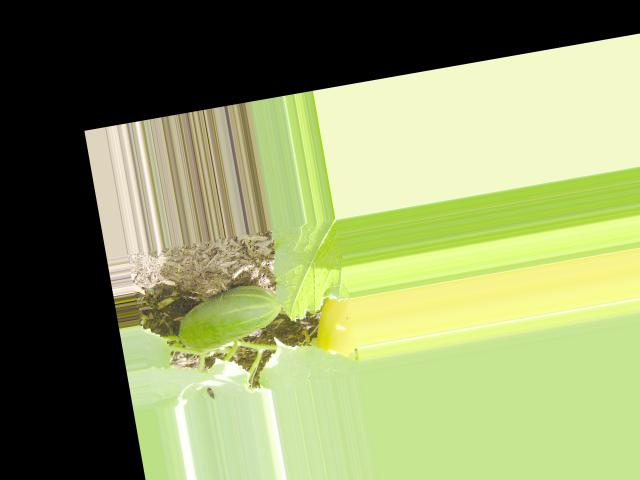cucumber: (171, 279, 286, 354)
